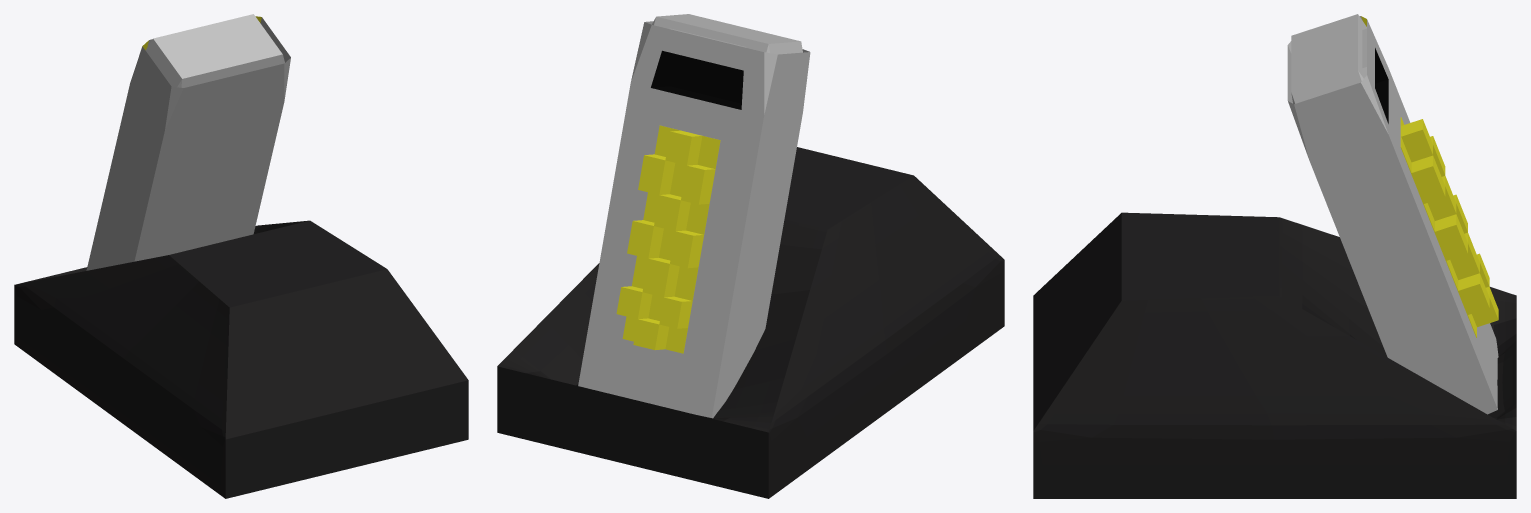
Rendered from Phone.fbx.
3 views of the same model, side by side, from view 1: azimuth 30°, elevation 25°; view 2: azimuth 150°, elevation 25°; view 3: azimuth 270°, elevation 25° (orthographic). The views are drawn at different scales.
Parts seen in each view (by area): view 1: Cube, Cube.001; view 2: Cube, Cube.001; view 3: Cube, Cube.001.
Boxes of the visible parts, x1,y1,x2,y2 form: Cube: (14,220,468,498); Cube.001: (86,14,290,270); Cube: (497,147,1004,498); Cube.001: (578,14,810,418); Cube: (1033,212,1516,498); Cube.001: (1287,14,1498,414).
Size of the model in its own units: 122 by 163 by 184.
